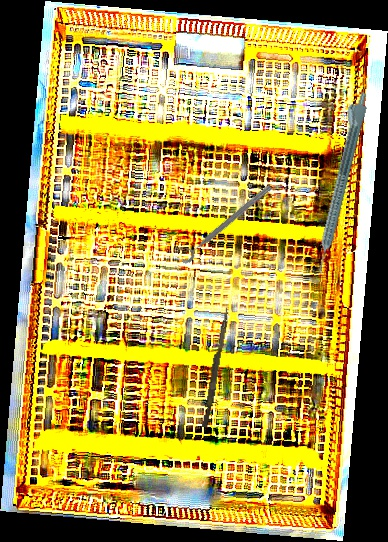Fixation Ring: (173, 176, 275, 267)
Handpiece: (305, 89, 371, 275)
Pusher: (201, 307, 230, 428)
